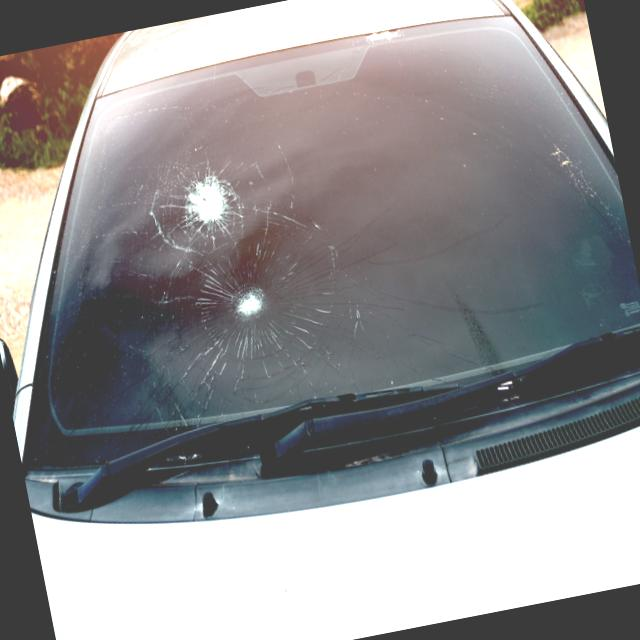Fissure: (74, 70, 395, 439)
